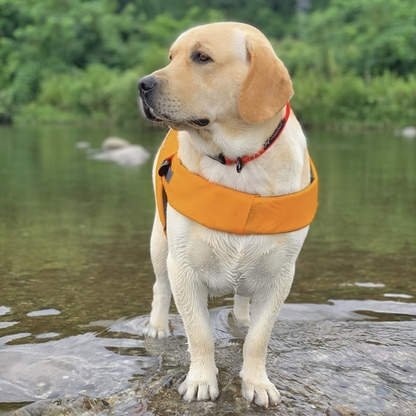labrado: (131, 18, 323, 408)
